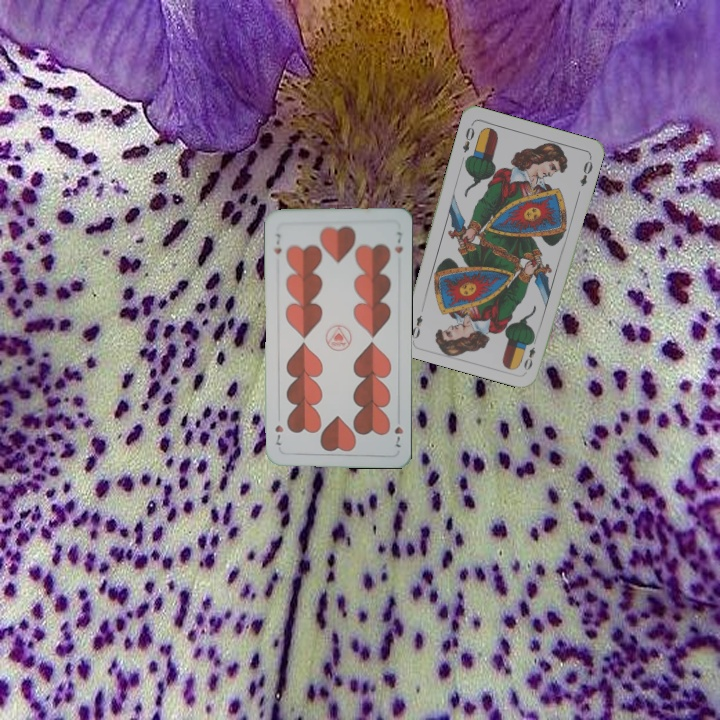EO: (520, 333, 540, 373), (458, 120, 477, 155)
H7: (390, 422, 406, 450), (270, 229, 284, 257)
